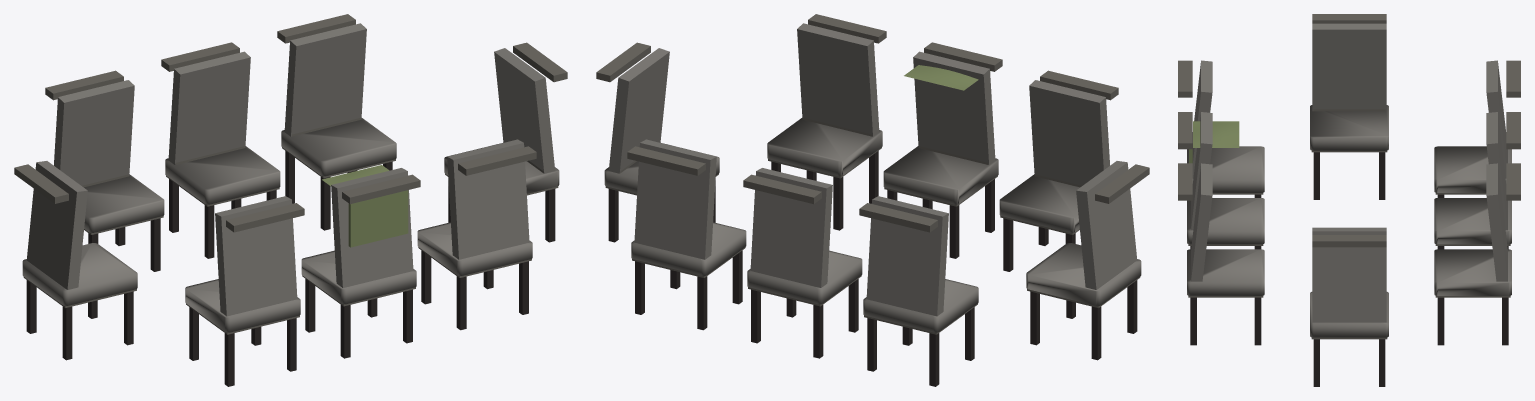
Rendered from Dining_Chairs.glb.
The picture shows the model from 3 angles, left to right: view 1: azimuth 30°, elevation 25°; view 2: azimuth 150°, elevation 25°; view 3: azimuth 270°, elevation 25°; orthographic projection. The views are drawn at different scales.
Parts seen in each view (by area): view 1: root; view 2: root; view 3: root.
Part boxes in pixels (<box>): root: <box>14,14,567,386</box>; root: <box>596,14,1149,386</box>; root: <box>1178,14,1520,386</box>.
Size of the model in its own units: 3.37 by 1.04 by 2.15.
